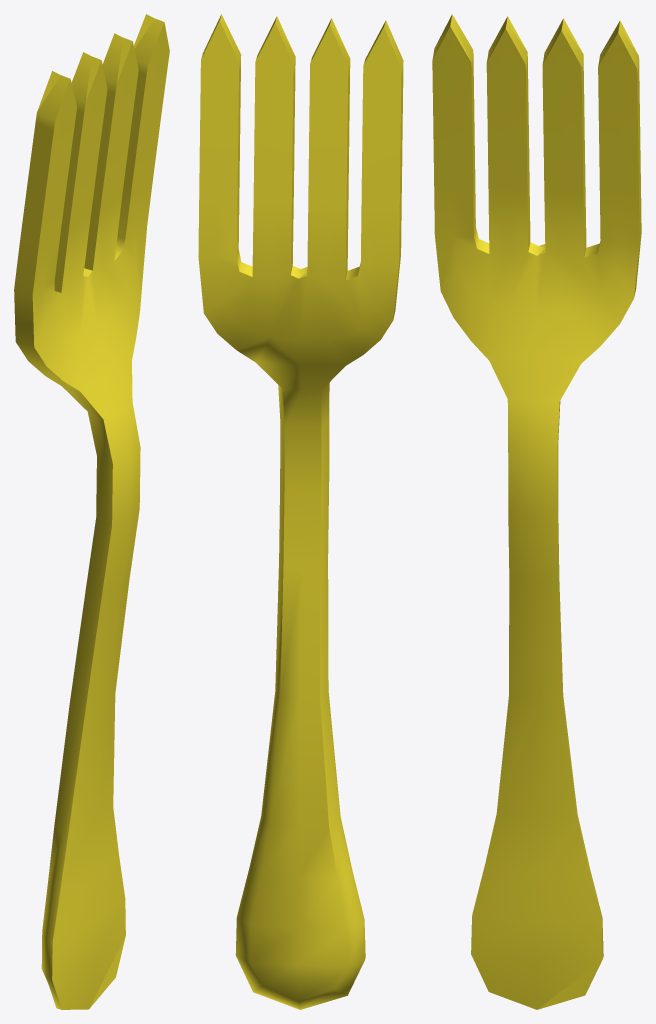
The picture shows the model from 3 angles, left to right: view 1: azimuth 30°, elevation 25°; view 2: azimuth 150°, elevation 25°; view 3: azimuth 330°, elevation 25°; orthographic projection. The views are drawn at different scales.
Visible parts, largest first — view 1: Fork; view 2: Fork; view 3: Fork.
Boxes of the visible parts, x1,y1,x2,y2 form: Fork: [14, 14, 169, 1009]; Fork: [198, 14, 403, 1009]; Fork: [432, 14, 641, 1009].
Size of the model in its own units: 9.02 by 5.8 by 47.71.
